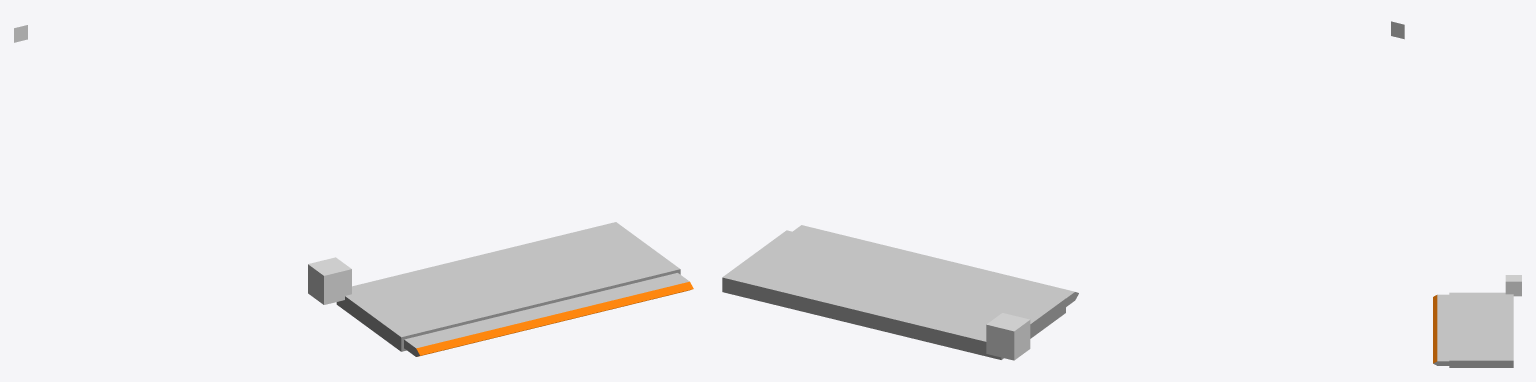
Rendered from platform.glb.
3 views of the same model, side by side, from view 1: azimuth 30°, elevation 25°; view 2: azimuth 150°, elevation 25°; view 3: azimuth 270°, elevation 25° (orthographic). The views are drawn at different scales.
Parts seen in each view (by area): view 1: _(Loose Entity), Cube.001; view 2: _(Loose Entity), Cube.001; view 3: _(Loose Entity), Cube.001.
Part boxes in pixels (<box>): _(Loose Entity): <box>14,25,693,356</box>; Cube.001: <box>308,257,351,304</box>; _(Loose Entity): <box>722,21,1404,359</box>; Cube.001: <box>986,313,1030,360</box>; _(Loose Entity): <box>1433,292,1513,367</box>; Cube.001: <box>1505,275,1521,296</box>.
Bounding box in the file's own units: 46 × 27 × 11.
